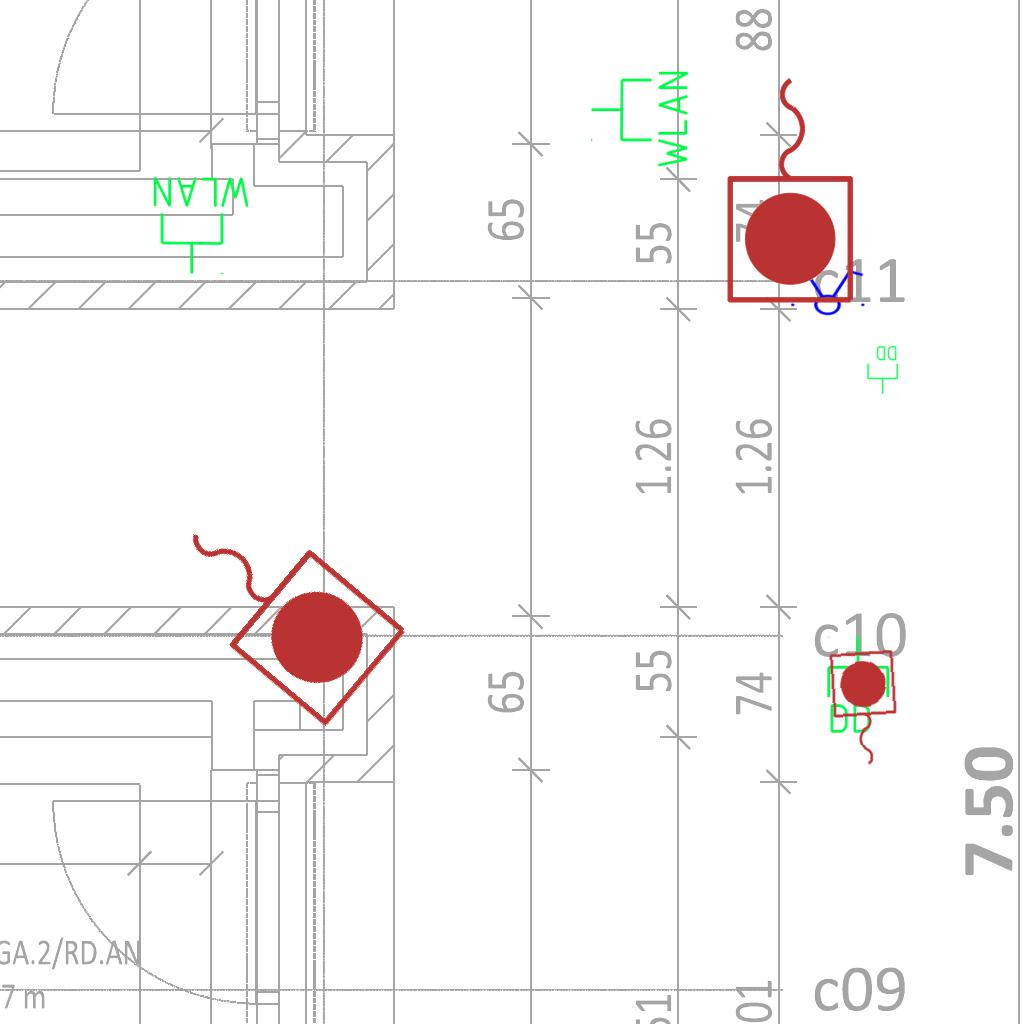Datenanschluss_zweifach: (823, 634, 892, 737), (866, 344, 900, 395)
Serienschalter: (785, 268, 869, 316)
WLAN: (149, 173, 254, 277), (588, 67, 692, 172)
Zugtaster: (140, 470, 420, 738), (720, 67, 864, 311), (823, 645, 905, 773)
